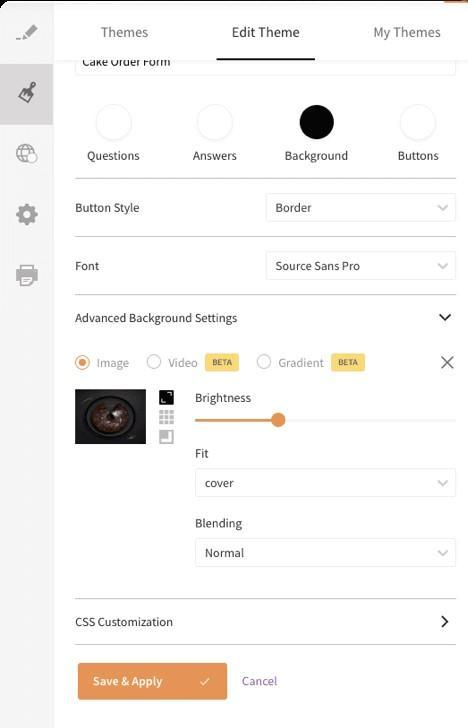button: (80, 664, 227, 701)
dropdown: (71, 297, 456, 340), (196, 468, 454, 500), (198, 541, 462, 567), (267, 194, 458, 223), (262, 254, 458, 281)
icon: (9, 260, 47, 293), (10, 140, 44, 170), (154, 427, 182, 455), (16, 204, 44, 229), (154, 407, 183, 431), (12, 24, 44, 45), (153, 385, 181, 409), (19, 77, 41, 106), (439, 352, 461, 374), (437, 611, 453, 635)
label: (227, 18, 305, 45), (366, 25, 452, 44), (96, 21, 161, 44), (279, 355, 364, 372), (72, 200, 144, 218), (169, 357, 238, 372), (197, 390, 254, 407), (194, 515, 250, 532), (240, 673, 281, 689), (95, 356, 133, 373), (73, 259, 104, 277), (194, 448, 217, 460)
radio: (75, 354, 93, 372), (145, 355, 163, 372), (258, 354, 272, 371)
slider: (194, 412, 457, 432)
